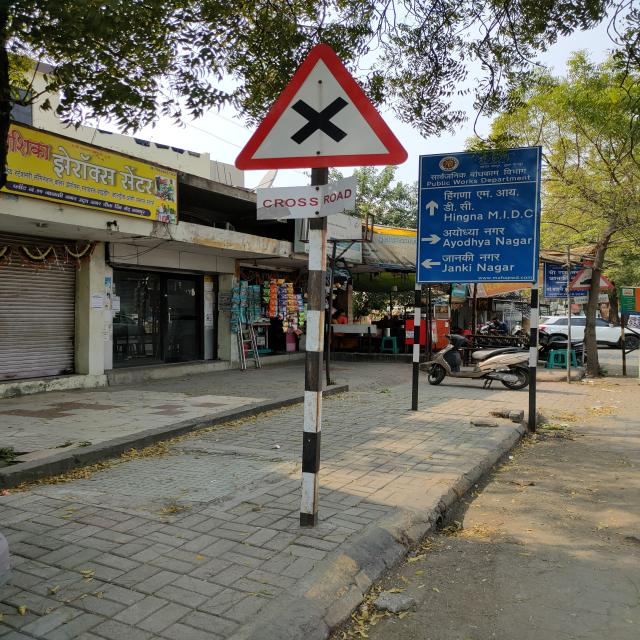cross_road: (234, 43, 408, 174)
